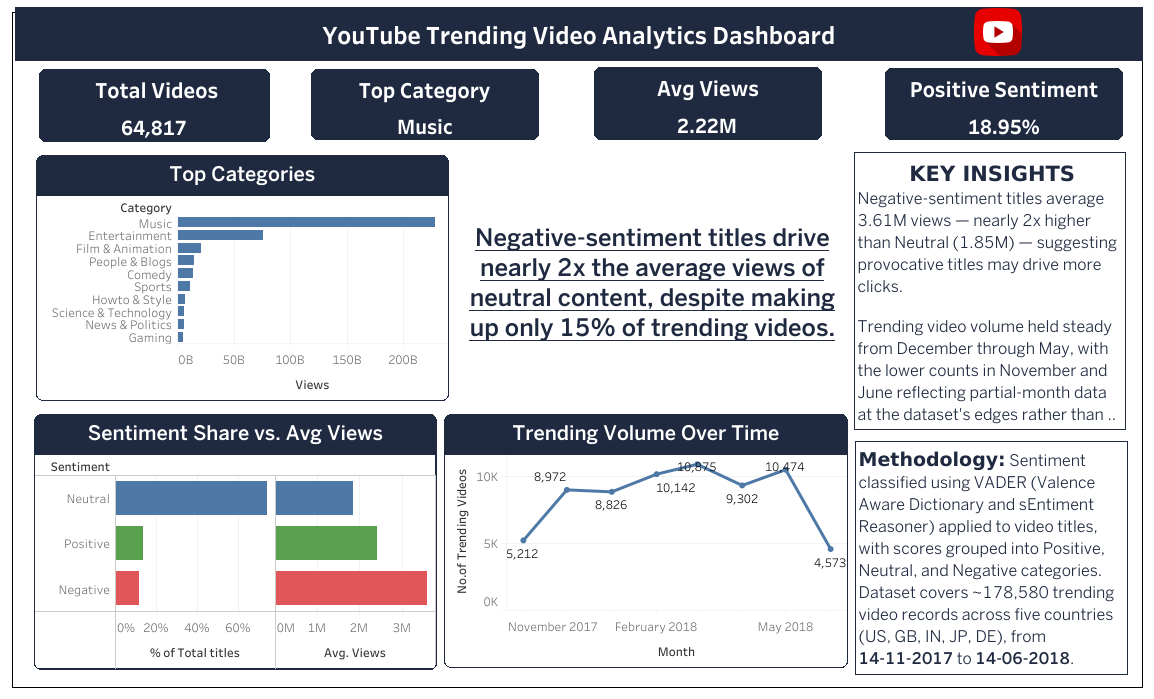

What the dashboard file says about the page in this screenshot:
{"tool":"tableau","page":{"name":"Dashboard 1","canvas":[1155,700],"ordinal":0},"visuals":[{"type":"text","box":[15,7,1128,67]},{"type":"blank","box":[8,8,1139,684]},{"type":"image","param":"C:/Users/ELCOT/Downloads/youtube (1).png","box":[1065,17,64,48]},{"type":"worksheet","title":"Positive Sentiment","mark":"Automatic","box":[880,83,238,72]},{"type":"worksheet","title":"Avg Views","mark":"Automatic","box":[600,84,228,73]},{"type":"worksheet","title":" Total Videos","mark":"Automatic","box":[30,85,231,73]},{"type":"worksheet","title":"Top Category","mark":"Automatic","box":[316,85,228,73]},{"type":"worksheet","title":"Top Categories by Avg Sentiment Score","mark":"Automatic","rows":["category_name"],"cols":["sentiment_score"],"box":[27,168,401,246]},{"type":"worksheet","title":"Avg Sentiment Score by Country","mark":"Multipolygon","box":[442,169,401,244]},{"type":"text","box":[854,169,272,506]},{"type":"worksheet","title":"Sentiment Share vs. Avg Views","mark":"Automatic","rows":["sentiment_label"],"cols":["Calculation_1325751738511360","views"],"box":[27,421,403,256]},{"type":"worksheet","title":"Trending Volume Over Time","mark":"Automatic","rows":["video_id"],"cols":["Calculation_1325751758598147"],"box":[443,422,404,254]}]}

Visuals, with their boxes in screenshot pixels (x1, y1, x2, y2), scaled from the page's 1155x700 canvas onto the 1154x699 screenshot:
text: box(15, 7, 1142, 74)
blank: box(8, 8, 1146, 691)
image: box(1064, 17, 1128, 65)
"Positive Sentiment" worksheet: box(879, 83, 1117, 155)
"Avg Views" worksheet: box(599, 84, 827, 157)
" Total Videos" worksheet: box(30, 85, 261, 158)
"Top Category" worksheet: box(316, 85, 544, 158)
"Top Categories by Avg Sentiment Score" worksheet: box(27, 168, 428, 413)
"Avg Sentiment Score by Country" worksheet (Multipolygon marks): box(442, 169, 842, 412)
text: box(853, 169, 1125, 674)
"Sentiment Share vs. Avg Views" worksheet: box(27, 420, 430, 676)
"Trending Volume Over Time" worksheet: box(443, 421, 846, 675)
